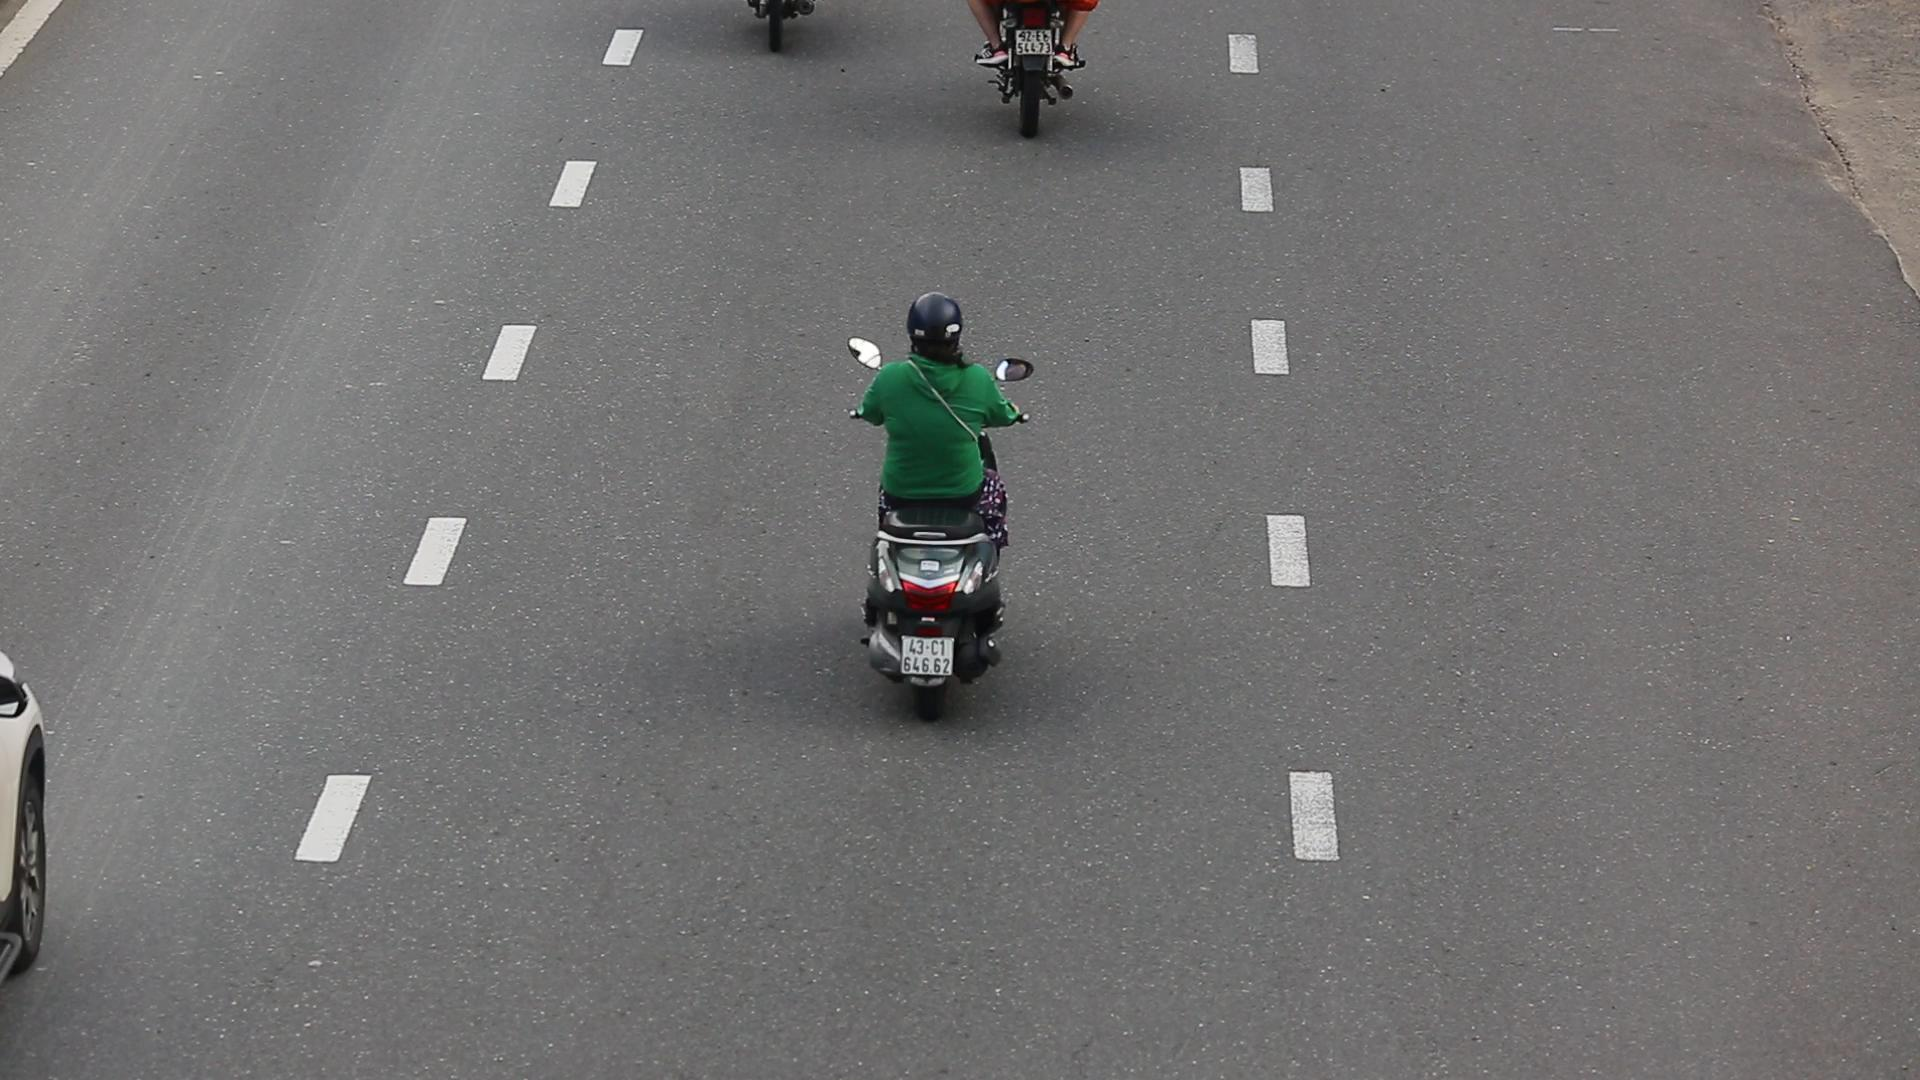motobike: (839, 289, 1042, 721)
